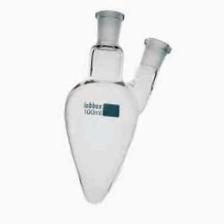Pear shaped flask: (65, 14, 169, 205)
